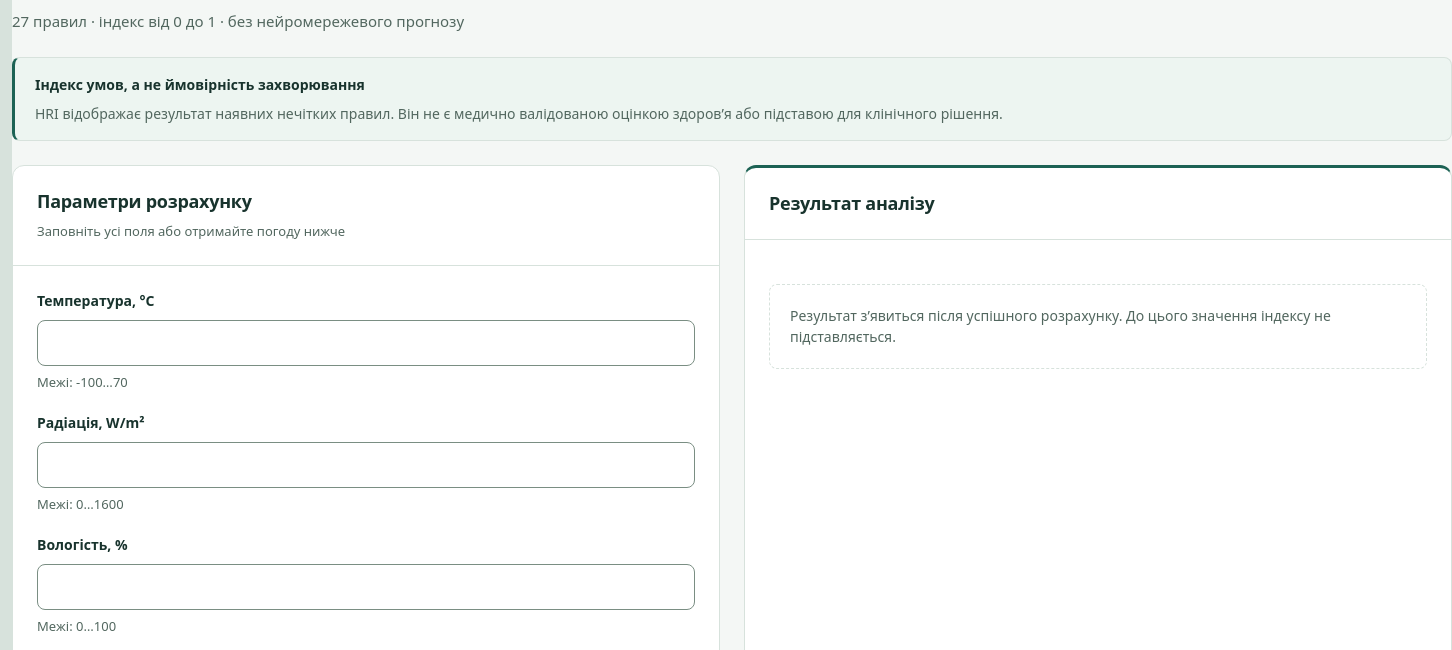
HRI scenario › shows a provider failure without invented index
In the number field labelled "Температура, °C": (366, 342) [37,320,695,366], type "20"
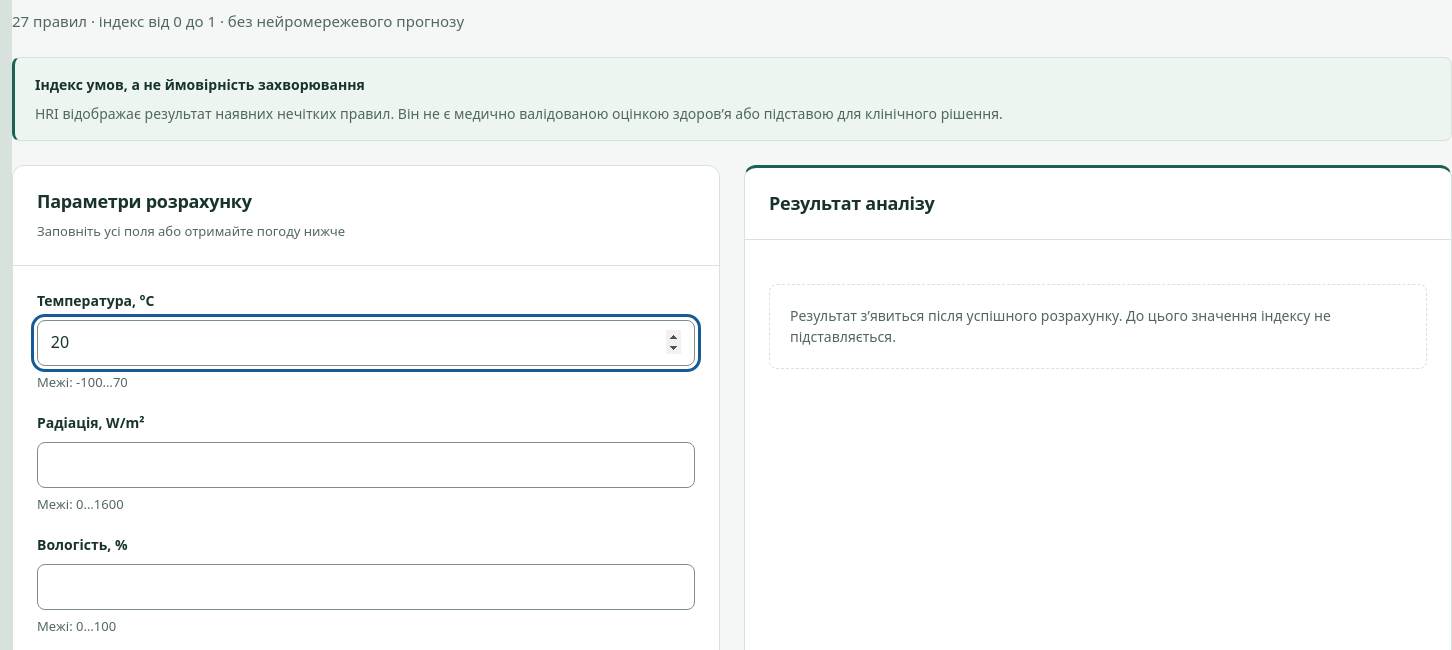
In the number field labelled "Радіація, W/m²": (366, 465) [37,442,695,488], type "180"
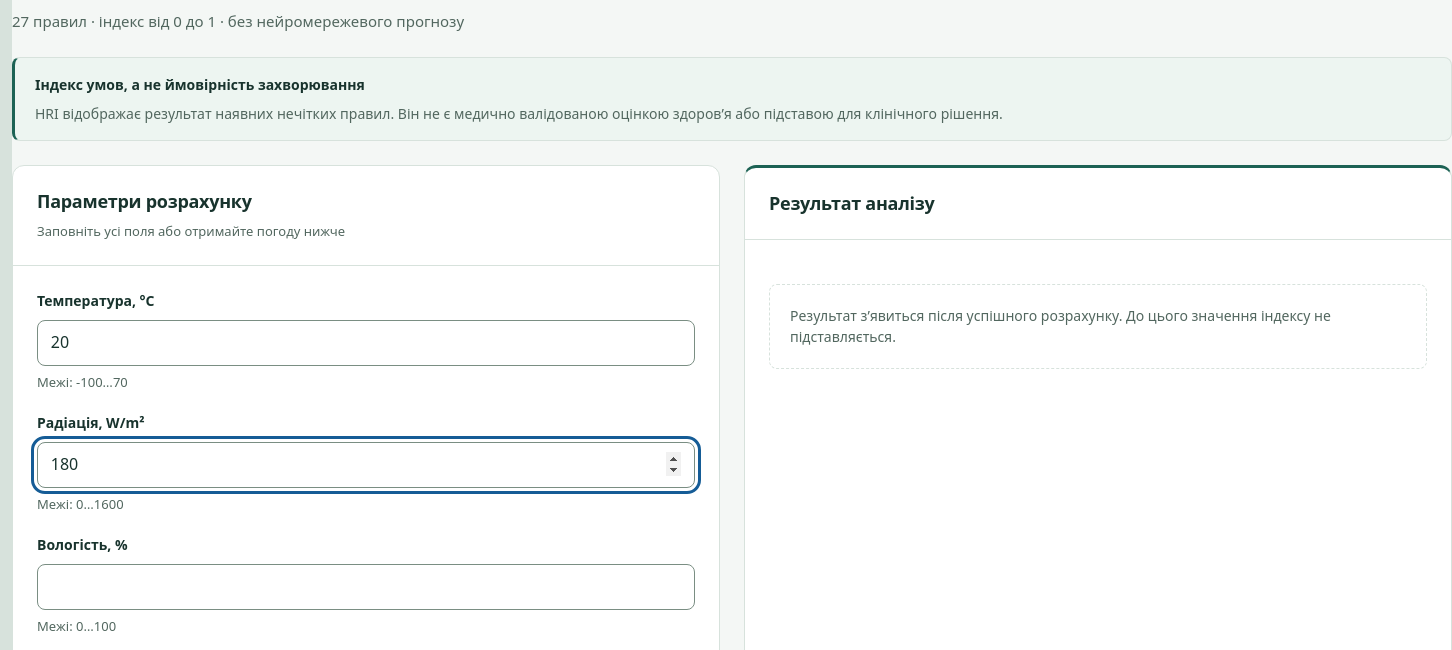
In the number field labelled "Вологість, %": (366, 587) [37,564,695,610], type "65"
(page scrolled)
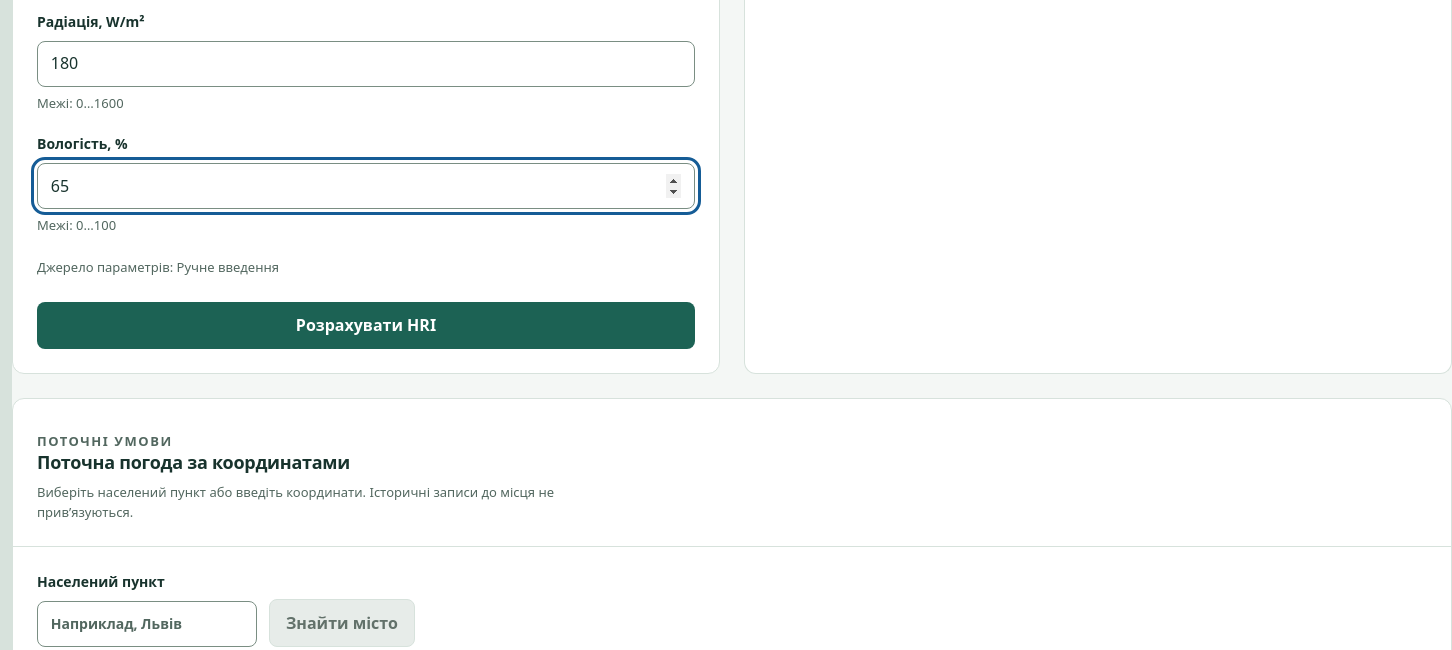
Click the button "Розрахувати HRI": (366, 325) [37,302,695,349]
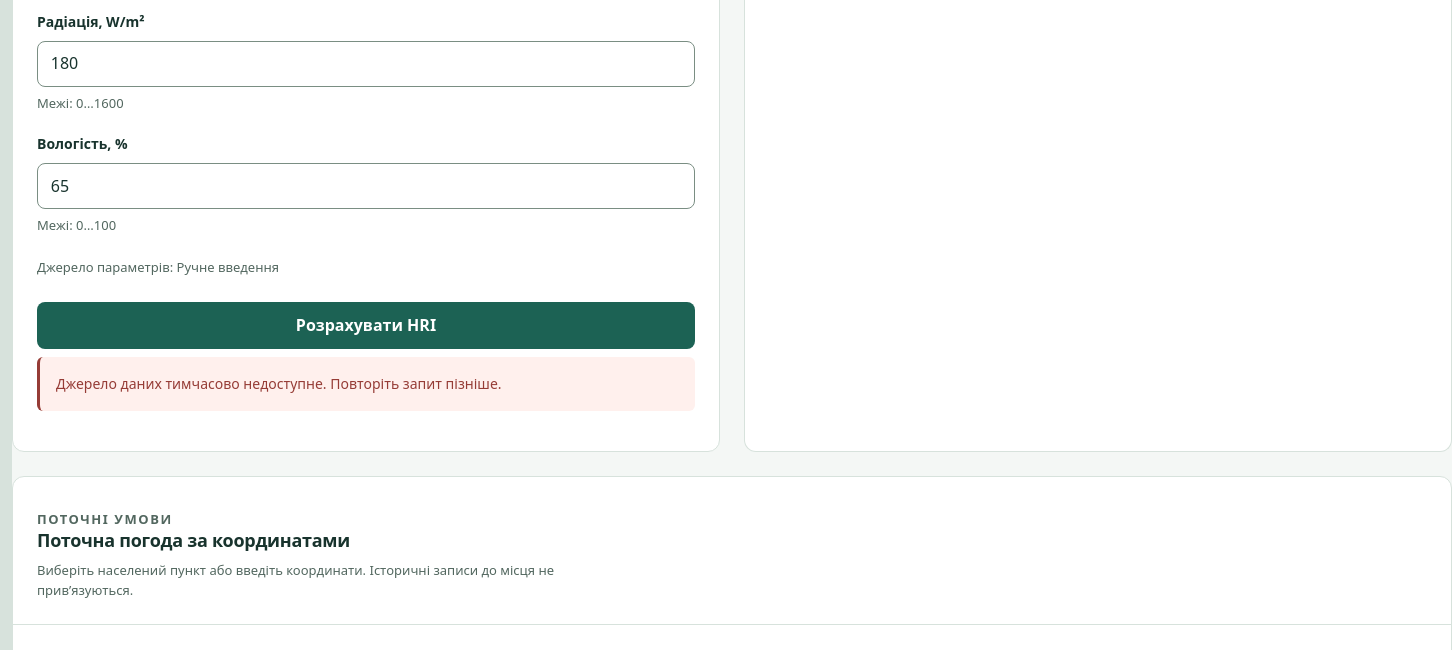
Check: the message shows "тимчасово недоступне", box [56,374,502,393]
